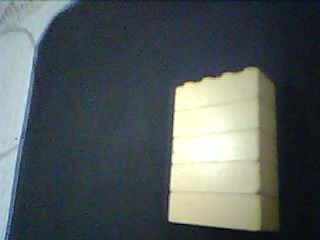lego: (167, 67, 279, 231)
